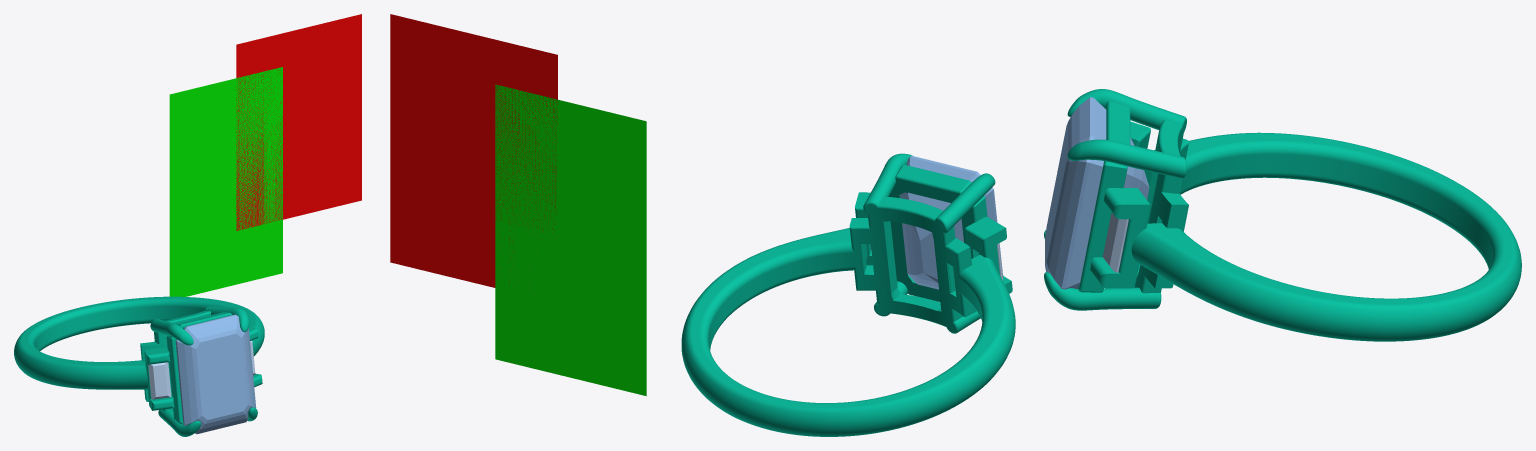
3 views of the same model, side by side, from view 1: azimuth 30°, elevation 25°; view 2: azimuth 150°, elevation 25°; view 3: azimuth 270°, elevation 25° (orthographic). The views are drawn at different scales.
Visible parts, largest first — view 1: 8321.DK4055(base).3dm, Diamond_Emerald, Diamond_Baguette Straight; view 2: 8321.DK4055(base).3dm, Diamond_Emerald; view 3: 8321.DK4055(base).3dm, Diamond_Emerald, Diamond_Baguette Straight.
Part boxes in pixels (x1,y1,x2,y2): 8321.DK4055(base).3dm: (14,14,361,436); Diamond_Emerald: (176,314,256,434); Diamond_Baguette Straight: (148,362,171,399); 8321.DK4055(base).3dm: (390,14,1015,436); Diamond_Emerald: (900,156,1002,289); 8321.DK4055(base).3dm: (1044,89,1521,341); Diamond_Emerald: (1045,97,1149,289); Diamond_Baguette Straight: (1103,212,1128,272).
Size of the model in its own units: 4.45 by 2.67 by 2.92.
